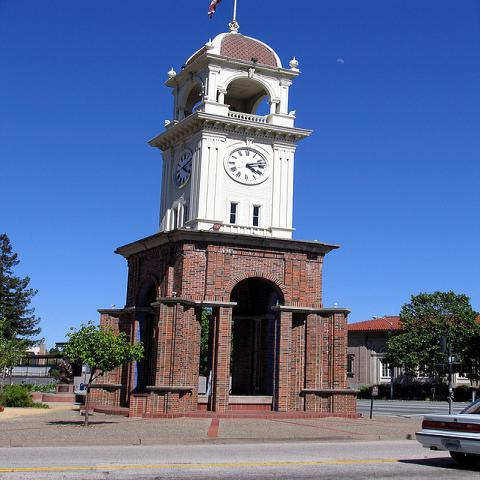car: (414, 398, 479, 470)
